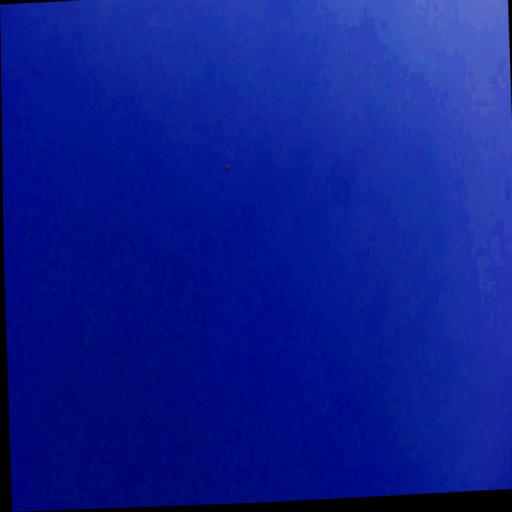drones: (222, 159, 231, 177)
